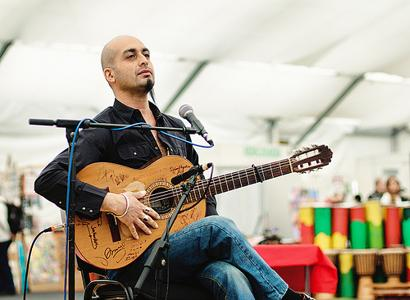person: (34, 36, 318, 300)
